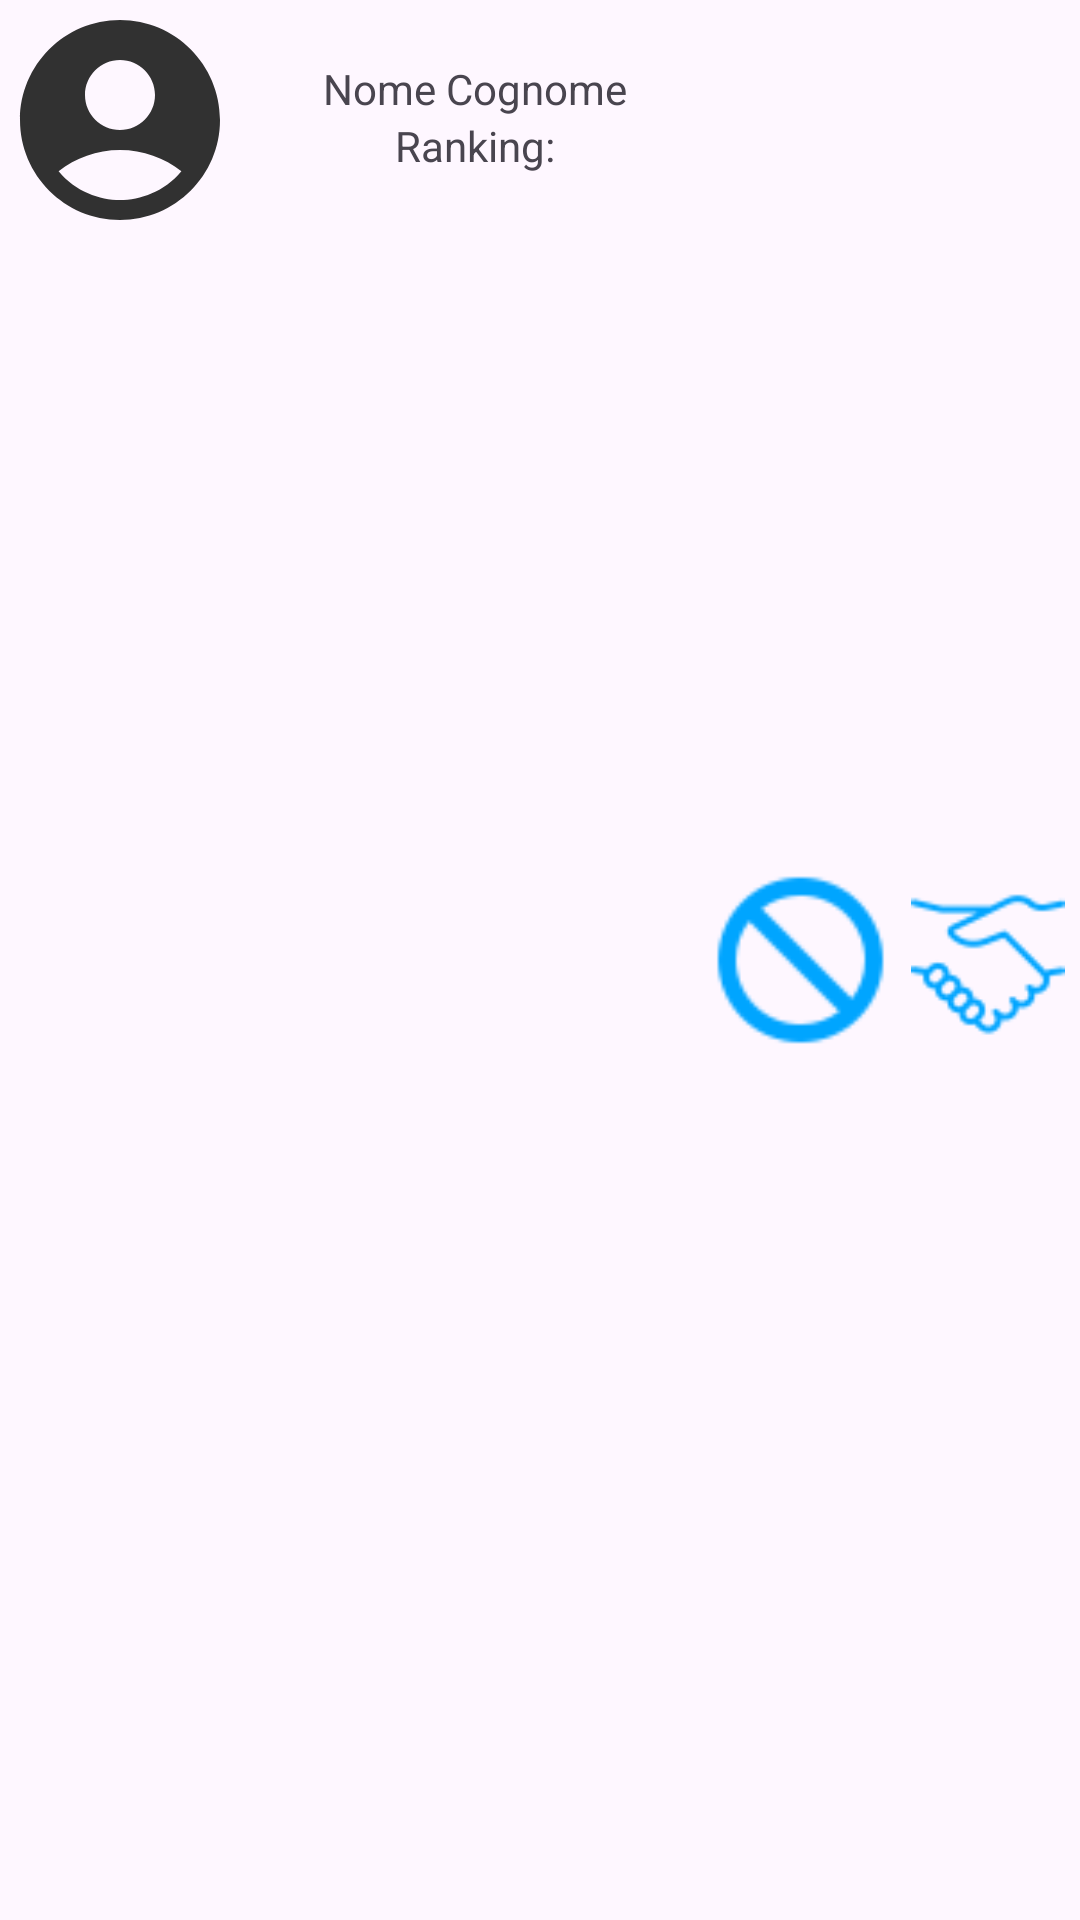

Point at icon controls on the screen. Image size 1080x1920, points as point (x, y).
account circle: point (120, 120)
ban: point (800, 960)
handshake: point (988, 964)
